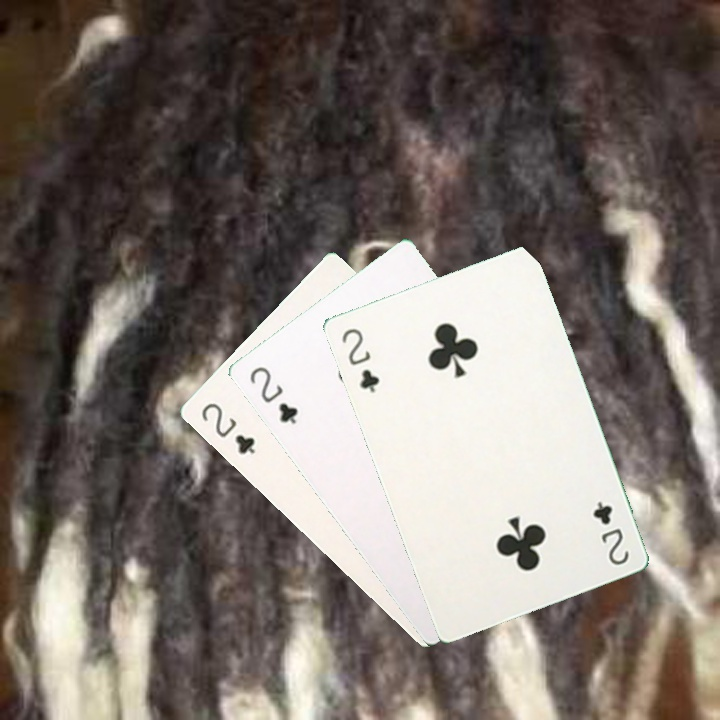2c: (245, 362, 301, 427), (197, 398, 258, 457), (337, 324, 382, 396), (588, 497, 632, 568)
